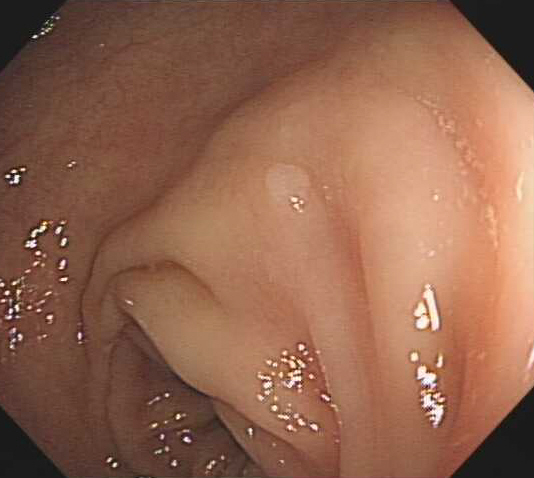others: (261, 161, 314, 210)
